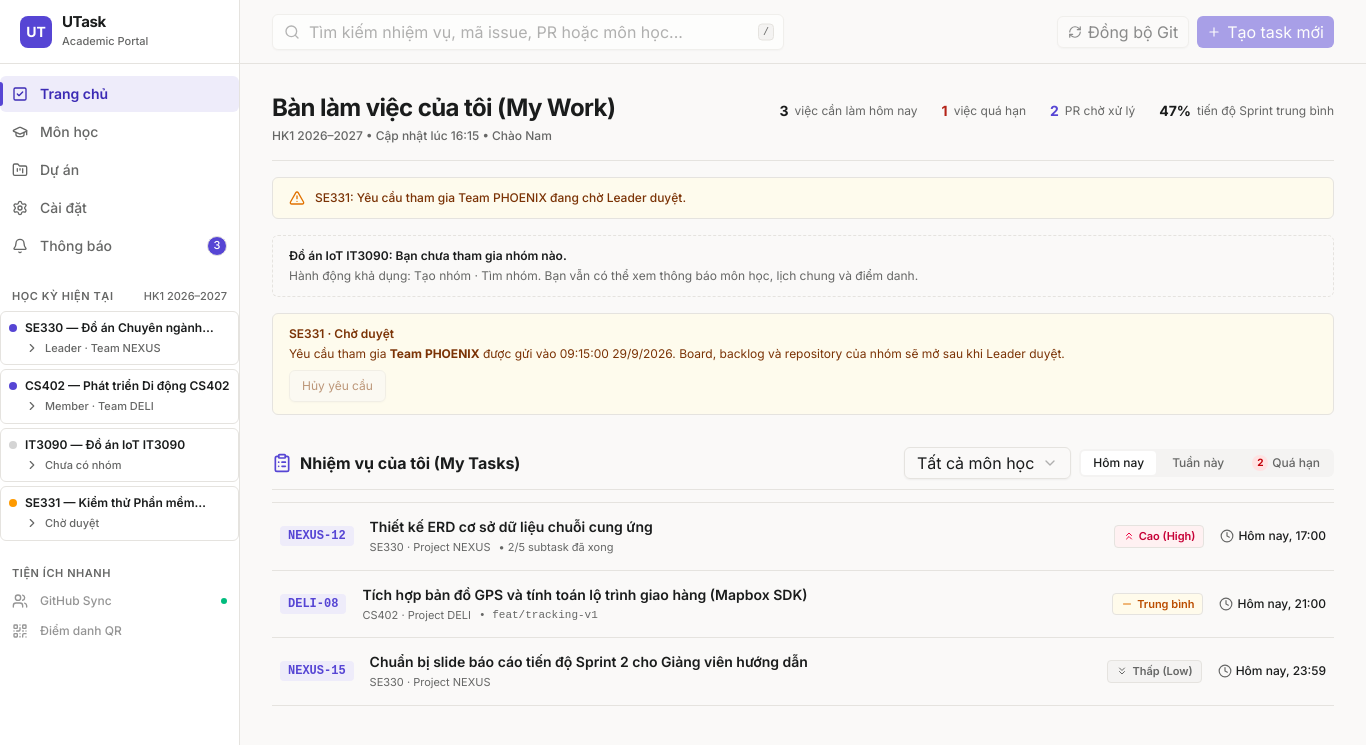
Test: task and sprint interplay › surfaces overdue tasks in the overdue tab with a badge count
The image size is (1366, 745).
Click the tab "2 Quá hạn". click: click(1286, 463)
box: [1240,451,1332,475]
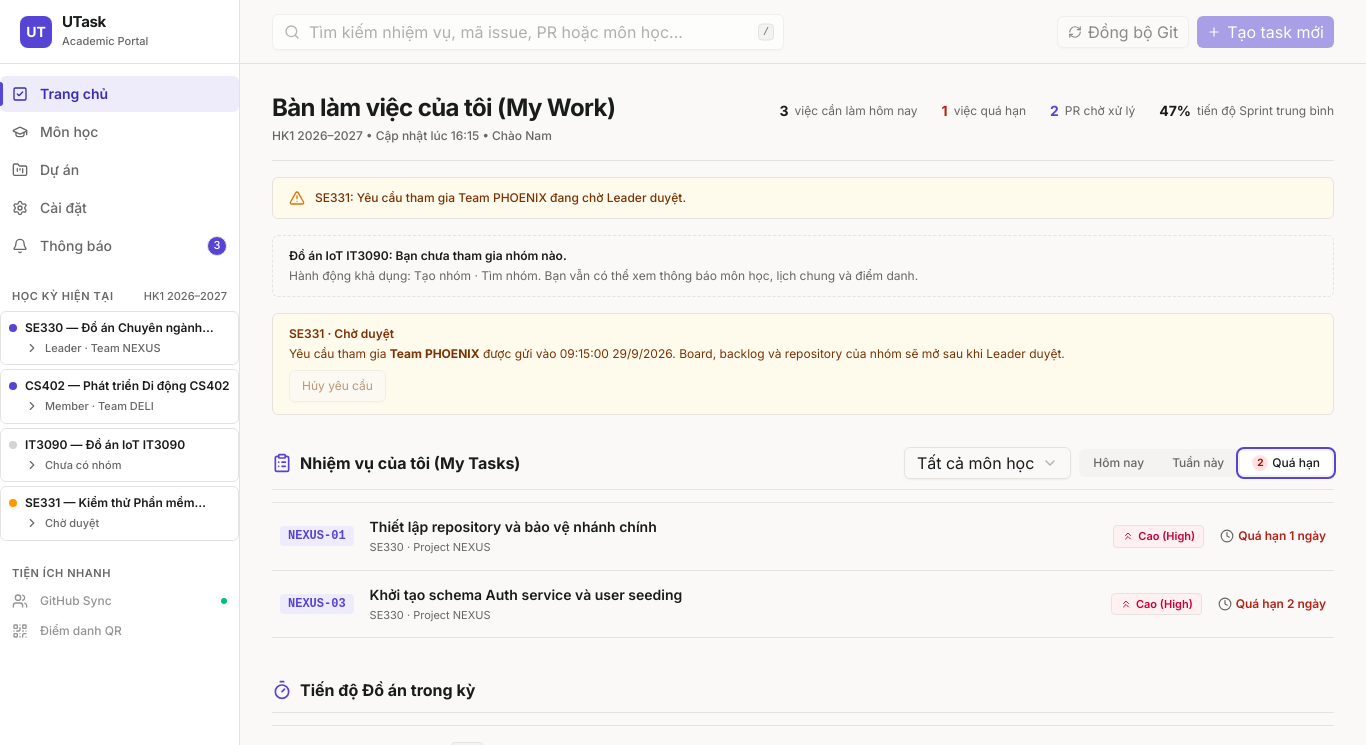
Now the text "NEXUS-01" is shown, box [280,526,354,546]
Now the text "Quá hạn 1 ngày" is shown, box [1220,528,1326,544]
